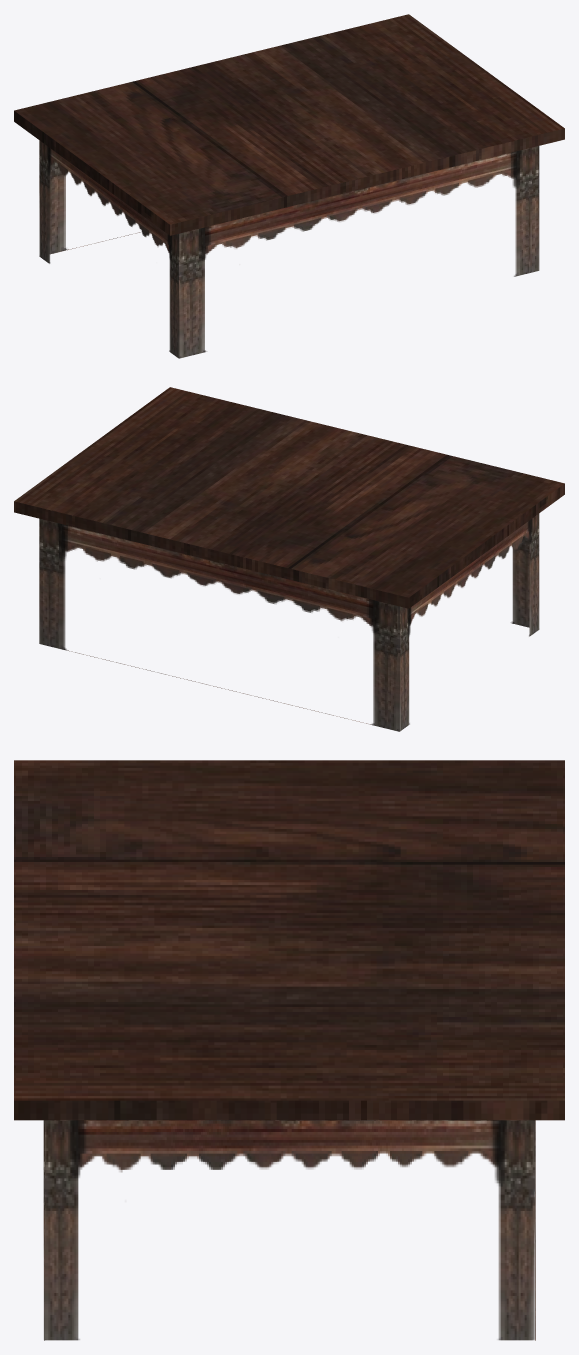
Rendered from table.glb.
3 views of the same model, one above another, from view 1: azimuth 30°, elevation 25°; view 2: azimuth 150°, elevation 25°; view 3: azimuth 270°, elevation 25° (orthographic). The views are drawn at different scales.
Parts seen in each view (by area): view 1: table; view 2: table; view 3: table.
Boxes of the visible parts, x1,y1,x2,y2 form: table: (14, 14, 564, 358); table: (14, 387, 564, 731); table: (14, 760, 564, 1340).
Bounding box in the file's own units: 2.19 × 0.7656 × 1.5.
1 material, 1 textured.
